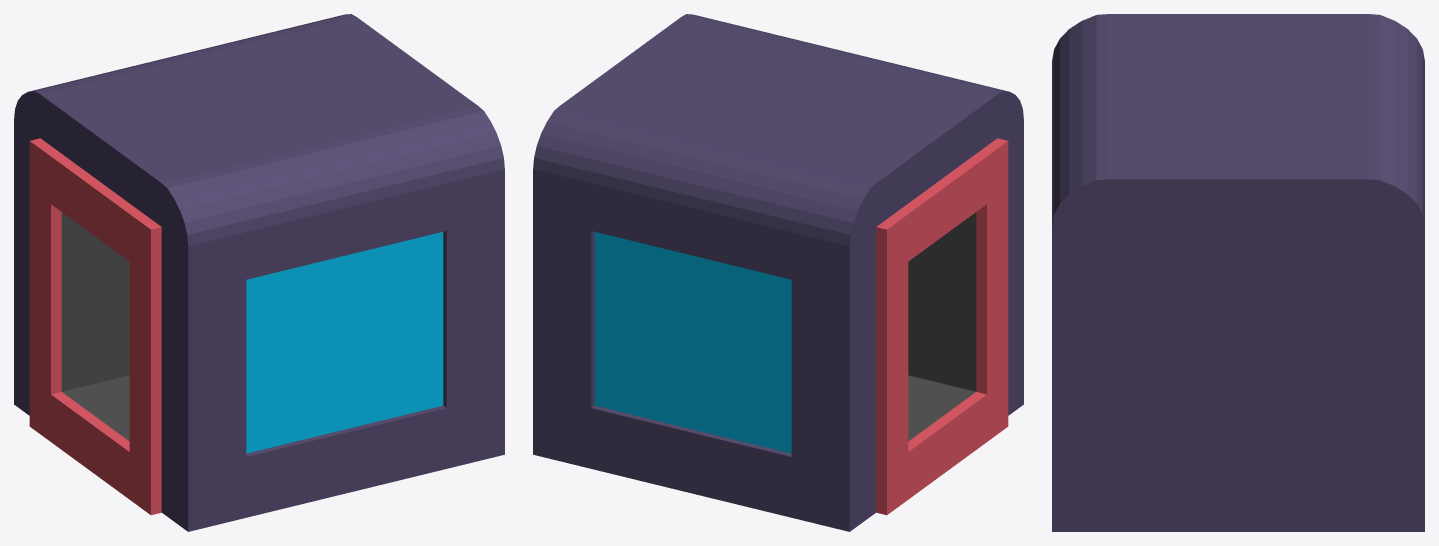
File: Gate.fbx
3 renders of one model, left to right at view 1: azimuth 30°, elevation 25°; view 2: azimuth 150°, elevation 25°; view 3: azimuth 270°, elevation 25°, orthographic. The views are drawn at different scales.
Visible parts, largest first — view 1: Cube.014; view 2: Cube.014; view 3: Cube.014.
Part boxes in pixels (x1,y1,x2,y2): Cube.014: (14,14,504,531); Cube.014: (533,14,1023,531); Cube.014: (1052,14,1424,531).
Bounding box in the file's own units: 720 × 692 × 663.
